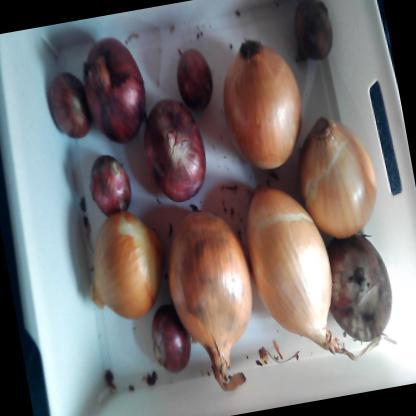onion: (230, 174, 346, 364), (155, 207, 268, 382), (208, 28, 310, 182), (288, 103, 390, 251), (74, 204, 174, 333), (134, 90, 216, 210), (76, 36, 156, 154), (79, 144, 145, 224), (140, 296, 200, 382), (40, 64, 98, 144), (171, 42, 222, 120)
